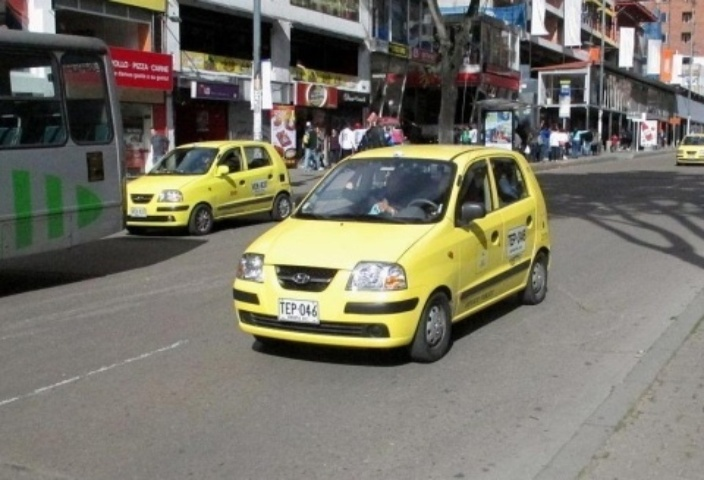bus: (1, 24, 141, 292)
taxi: (225, 121, 555, 366), (126, 121, 307, 233), (663, 126, 704, 167)
